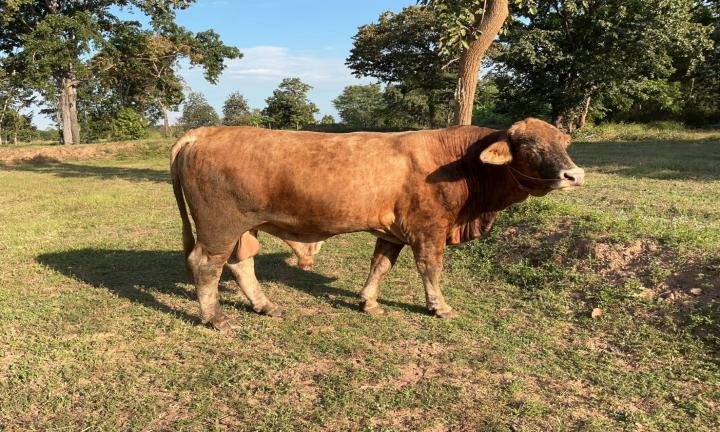Charolais: (171, 118, 584, 329)
